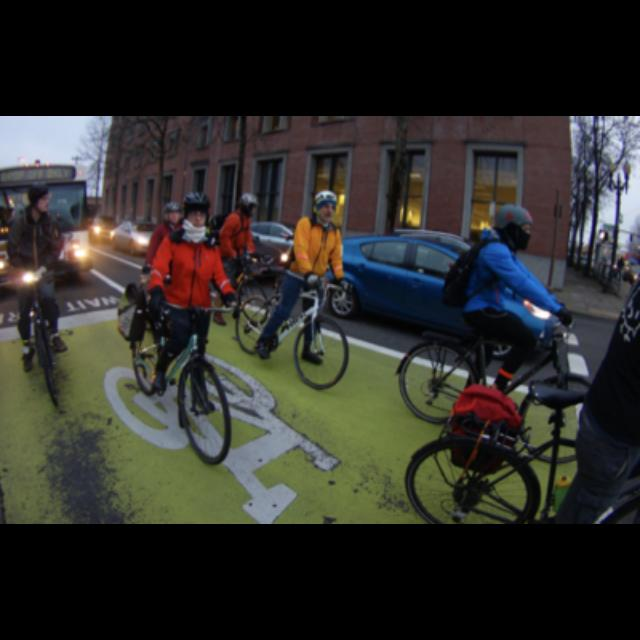With Helmet: (178, 187, 215, 240), (310, 182, 342, 226), (237, 189, 261, 223)
